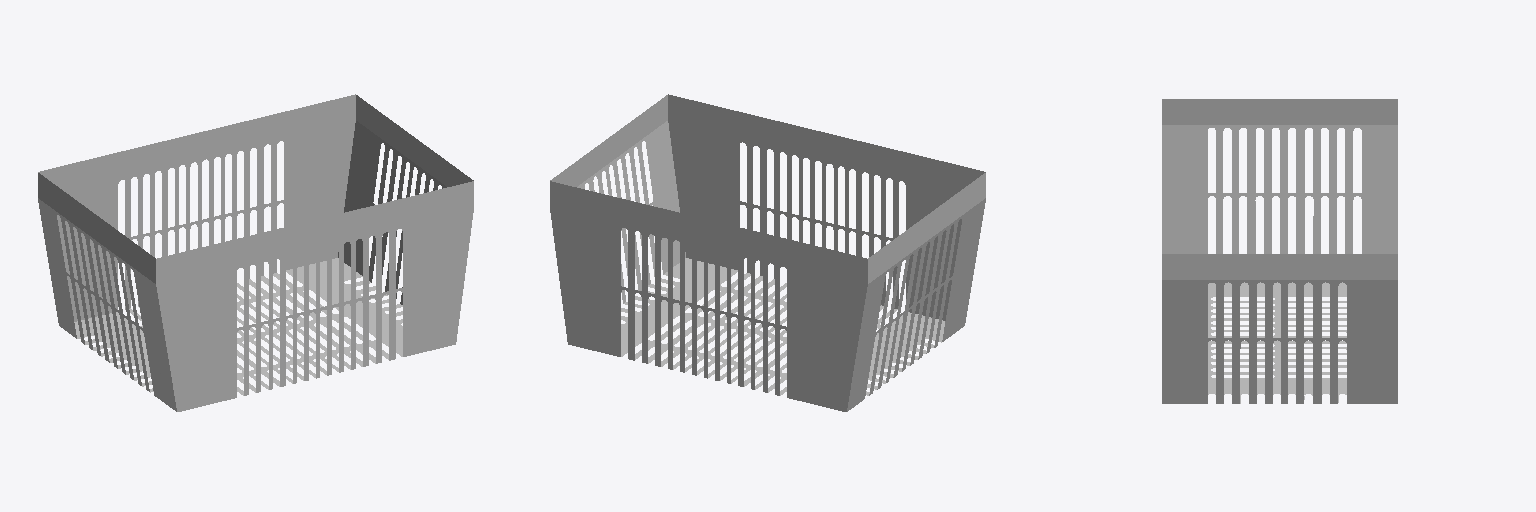
The model's file is original-3.obj.
3 views of the same model, side by side, from view 1: azimuth 30°, elevation 25°; view 2: azimuth 150°, elevation 25°; view 3: azimuth 270°, elevation 25° (orthographic).
Visible parts, largest first — view 1: #ID37; view 2: #ID37; view 3: #ID37.
Boxes of the visible parts, box(x1,y1,x2,y2) form: #ID37: box(38, 94, 473, 411); #ID37: box(550, 94, 985, 411); #ID37: box(1162, 99, 1397, 403).
Bounding box in the file's own units: 1.5 × 0.7153 × 0.9649.